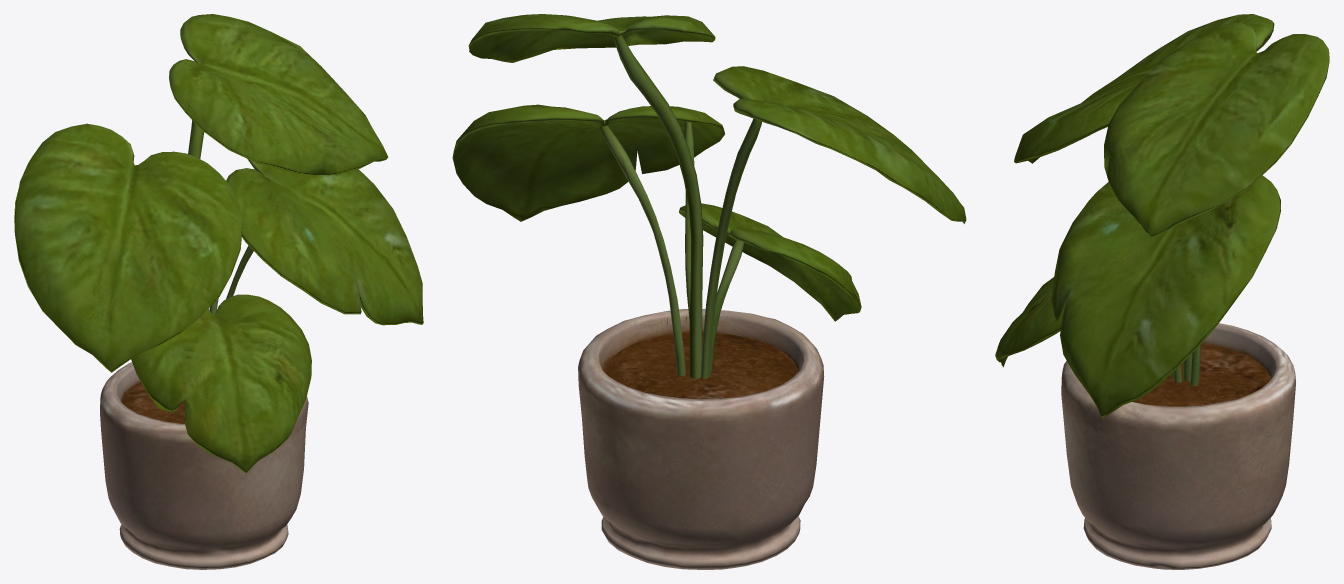
Rendered from large_leaf_plant.glb.
3 views of the same model, side by side, from view 1: azimuth 30°, elevation 25°; view 2: azimuth 150°, elevation 25°; view 3: azimuth 270°, elevation 25° (orthographic). The views are drawn at different scales.
Parts seen in each view (by area): view 1: geometry_0; view 2: geometry_0; view 3: geometry_0.
Boxes of the visible parts, x1=… form: geometry_0: x1=14, y1=14, x2=423, y2=569; geometry_0: x1=452, y1=14, x2=966, y2=569; geometry_0: x1=995, y1=14, x2=1329, y2=569.
Bounding box in the file's own units: 0.8898 × 1 × 0.5845.
Materials: 1 (1 with a texture image).
